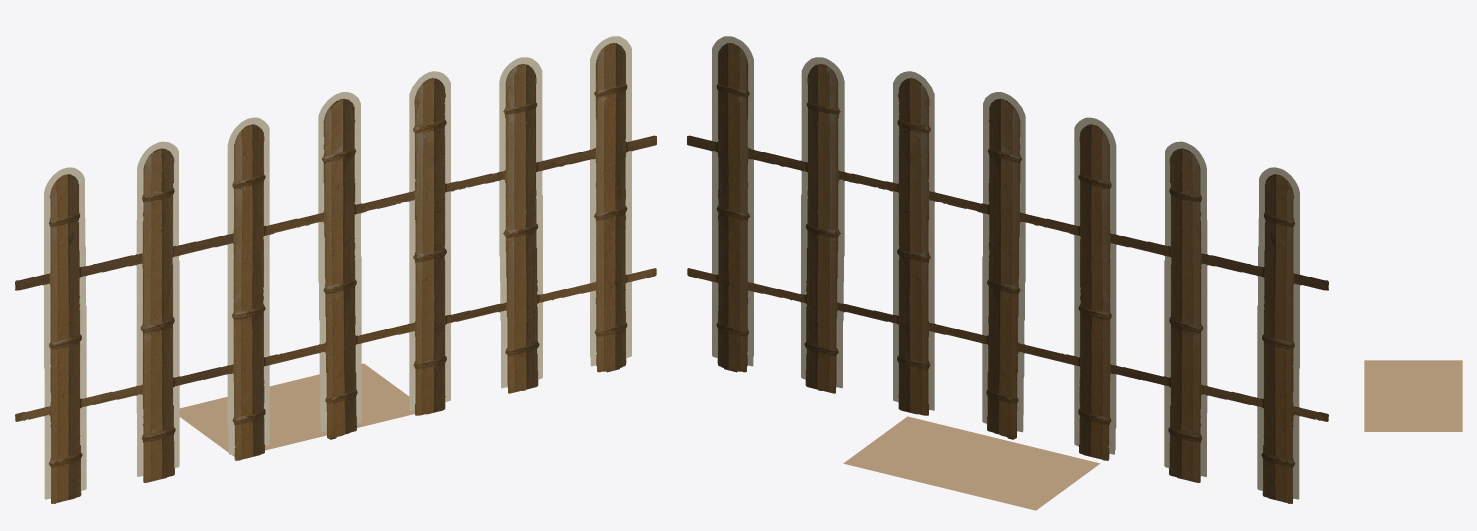
The model's file is toad-prop-fence-run-m.glb.
3 renders of one model, left to right at view 1: azimuth 30°, elevation 25°; view 2: azimuth 150°, elevation 25°; view 3: azimuth 270°, elevation 25°, orthographic. The views are drawn at different scales.
Visible parts, largest first — view 1: fence-run-m; view 2: fence-run-m; view 3: fence-run-m.
Boxes of the visible parts, x1,y1,x2,y2 form: fence-run-m: (15, 36, 656, 503); fence-run-m: (687, 36, 1328, 510); fence-run-m: (1364, 360, 1462, 431).
Size of the model in its own units: 0.19 by 0.0976 by 0.035.
1 material, 1 textured.
